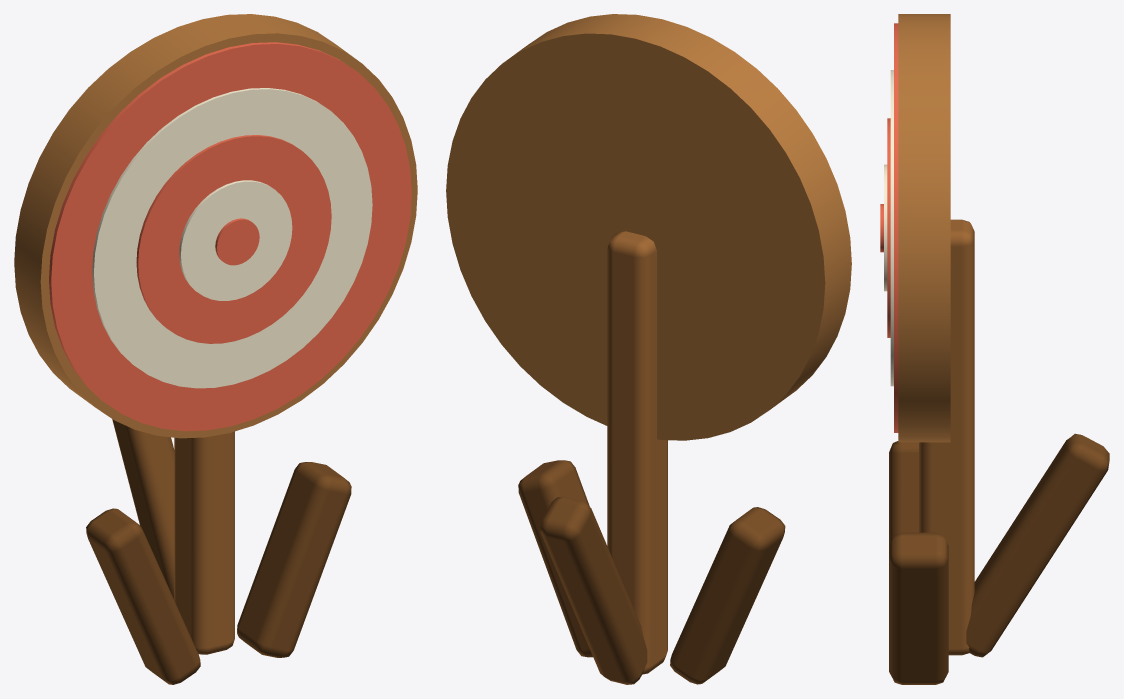
File: target.glb
3 renders of one model, left to right at view 1: azimuth 30°, elevation 25°; view 2: azimuth 150°, elevation 25°; view 3: azimuth 270°, elevation 25°, orthographic. The views are drawn at different scales.
Visible parts, largest first — view 1: Batched_Target_Coral_59, Batched_Target_Cream_60, Batched_Crate_ShadowWood_57, Batched_Crate_LightWood_58, Batched_Crate_EdgeWood_56; view 2: Batched_Crate_LightWood_58, Batched_Crate_ShadowWood_57, Batched_Crate_EdgeWood_56; view 3: Batched_Crate_ShadowWood_57, Batched_Crate_LightWood_58, Batched_Crate_EdgeWood_56, Batched_Target_Coral_59, Batched_Target_Cream_60.
Boxes of the visible parts, bbox=[...] form: Batched_Target_Coral_59: bbox=[49, 42, 411, 431]; Batched_Target_Cream_60: bbox=[92, 88, 372, 388]; Batched_Crate_ShadowWood_57: bbox=[86, 419, 351, 684]; Batched_Crate_LightWood_58: bbox=[14, 14, 417, 438]; Batched_Crate_EdgeWood_56: bbox=[174, 431, 234, 654]; Batched_Crate_LightWood_58: bbox=[446, 14, 851, 440]; Batched_Crate_ShadowWood_57: bbox=[518, 460, 785, 684]; Batched_Crate_EdgeWood_56: bbox=[607, 231, 667, 674]; Batched_Crate_ShadowWood_57: bbox=[889, 433, 1109, 684]; Batched_Crate_LightWood_58: bbox=[898, 14, 950, 442]; Batched_Crate_EdgeWood_56: bbox=[919, 219, 974, 655]; Batched_Target_Coral_59: bbox=[880, 23, 898, 432]; Batched_Target_Cream_60: bbox=[884, 70, 893, 386].
Size of the model in its own units: 1.15 by 1.84 by 0.6145.
